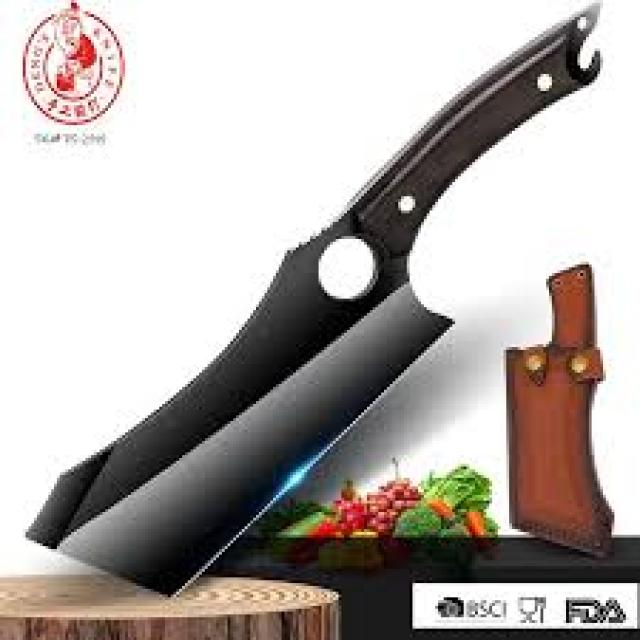Knife: (26, 3, 597, 600)
